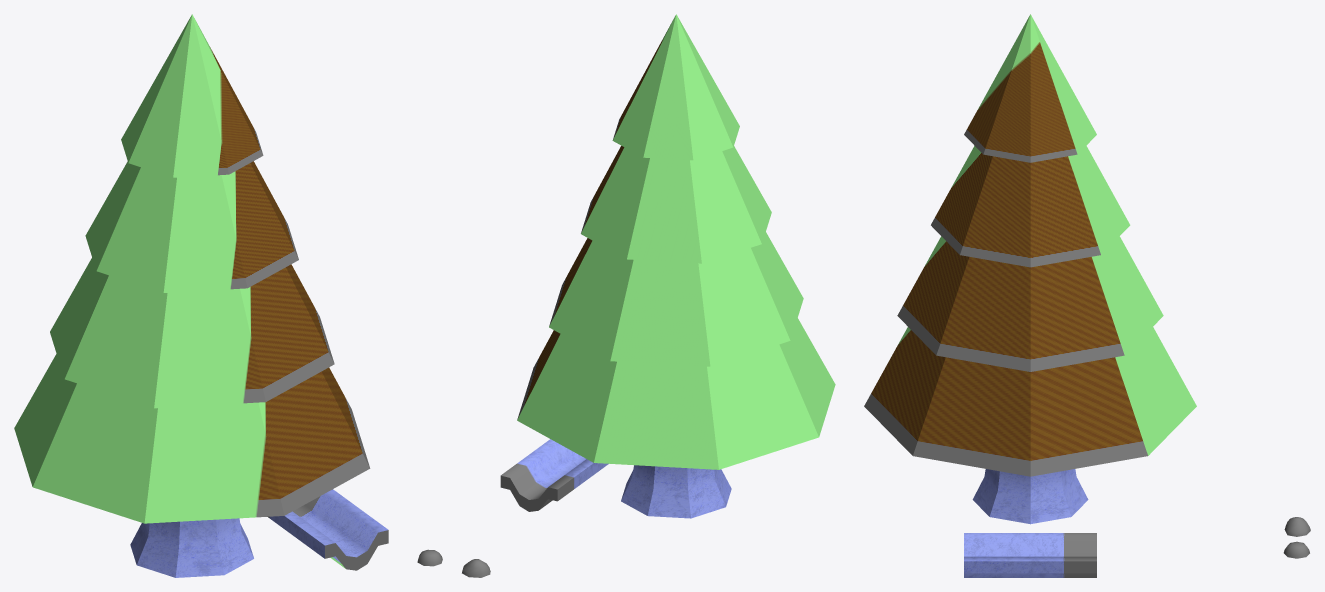
Rendered from YeongYuSeong_OutdoorAssets.fbx.
3 renders of one model, left to right at view 1: azimuth 30°, elevation 25°; view 2: azimuth 150°, elevation 25°; view 3: azimuth 270°, elevation 25°, orthographic. The views are drawn at different scales.
Visible parts, largest first — view 1: tree_part3, tree_part2, tree_part1, tree_part, tree_bark, drain; view 2: tree_part3, tree_part2, tree_part1, tree_part, tree_bark, drain; view 3: tree_part3, tree_part2, tree_part1, tree_part, drain, tree_bark.
Boxes of the visible parts, x1,y1,x2,y2 form: tree_part3: (14,354,370,523); tree_part2: (50,257,334,408); tree_part1: (85,161,298,292); tree_part: (121,14,263,177); tree_bark: (130,518,253,577); drain: (267,489,388,570); tree_part3: (517,318,835,469); tree_part2: (549,232,803,366); tree_part1: (581,146,771,263); tree_part: (612,14,739,160); tree_bark: (621,465,731,518); drain: (500,439,608,511); tree_part3: (864,327,1196,476); tree_part2: (897,236,1163,371); tree_part1: (931,146,1130,267); tree_part: (964,14,1096,162); drain: (964,533,1096,577); tree_bark: (972,469,1088,524).
Size of the model in its own units: 2.5 by 4.2 by 3.36.
